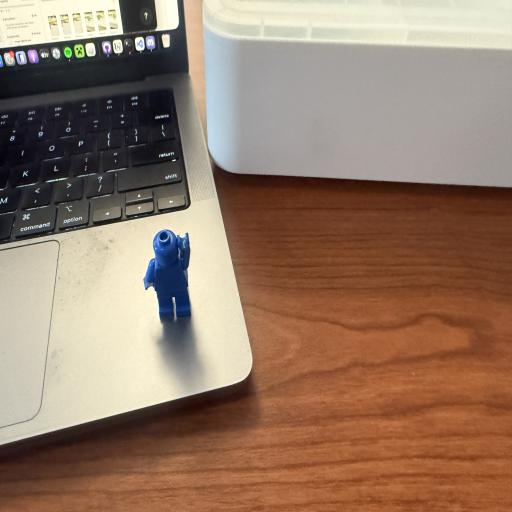Minifig: (144, 230, 191, 318)
